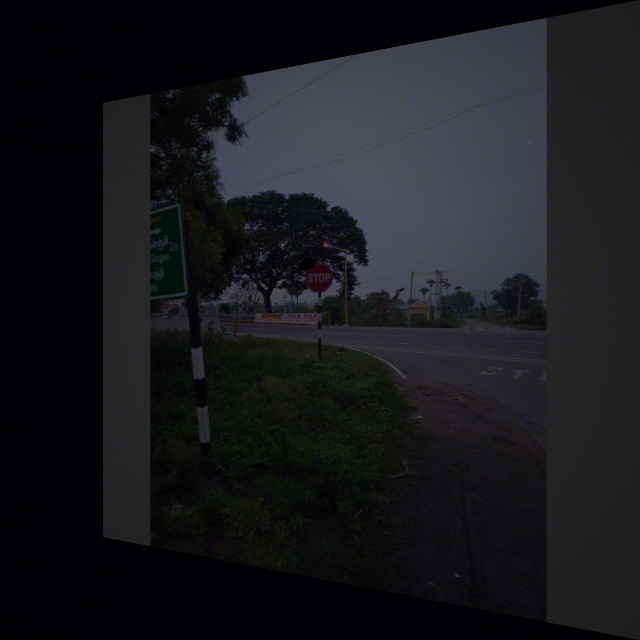Stop: (303, 261, 333, 293)
